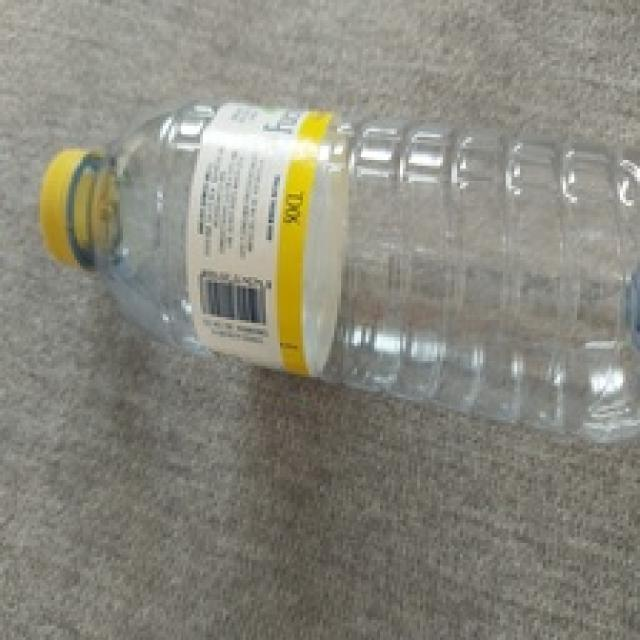Plastic: (39, 102, 640, 442)
